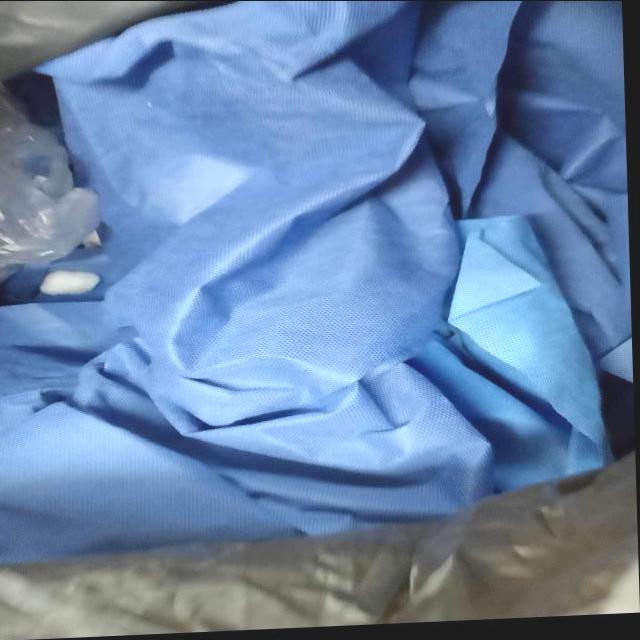General: (2, 3, 631, 569)
Infectious: (0, 84, 102, 270)
Sharps: (38, 269, 101, 297)
